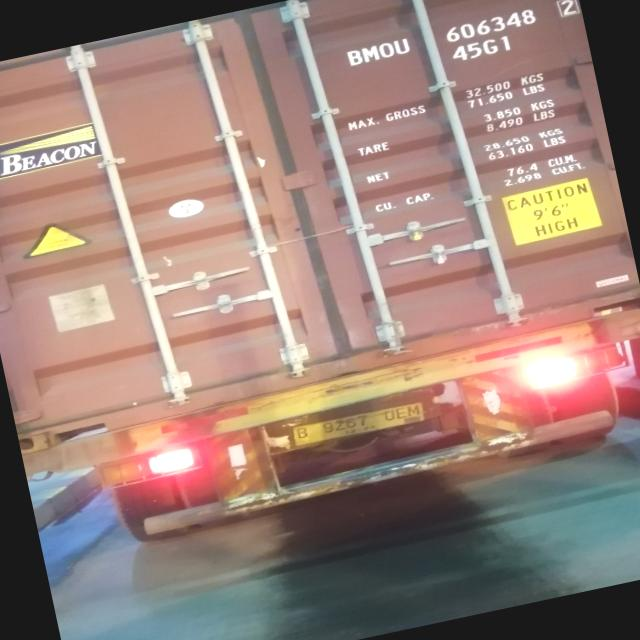seal: (431, 247, 450, 266), (409, 226, 423, 240)
